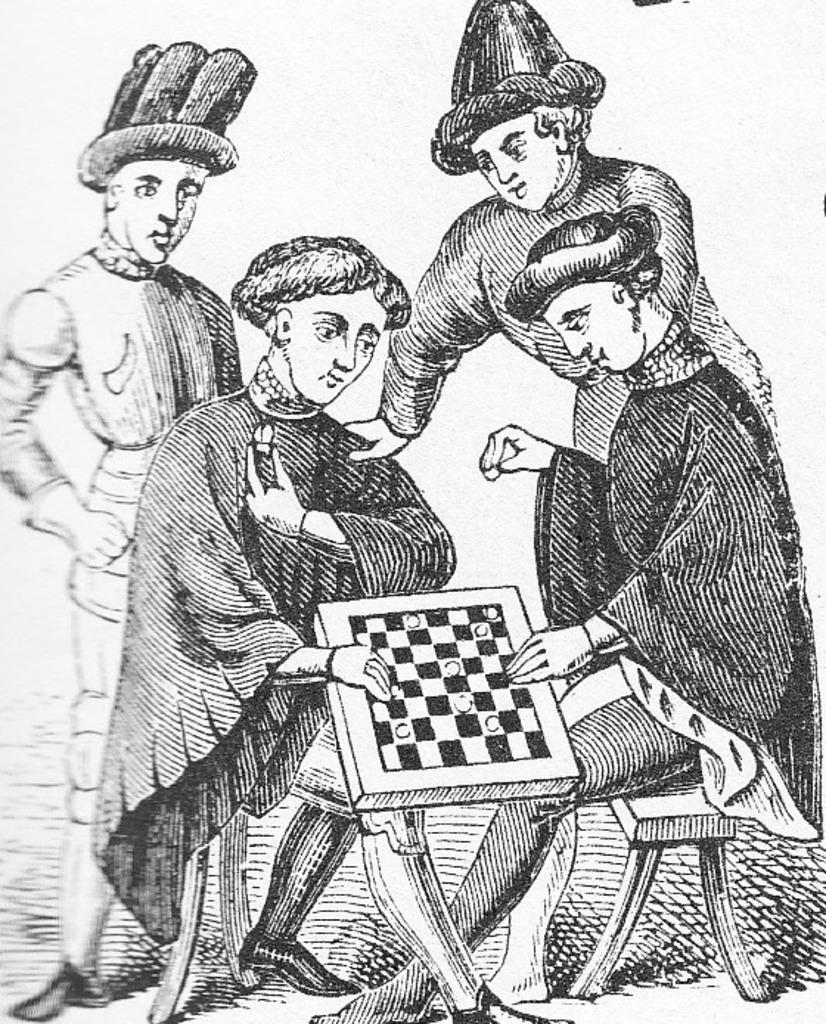Hat: (428, 0, 600, 187), (85, 34, 246, 198), (504, 204, 663, 326)
